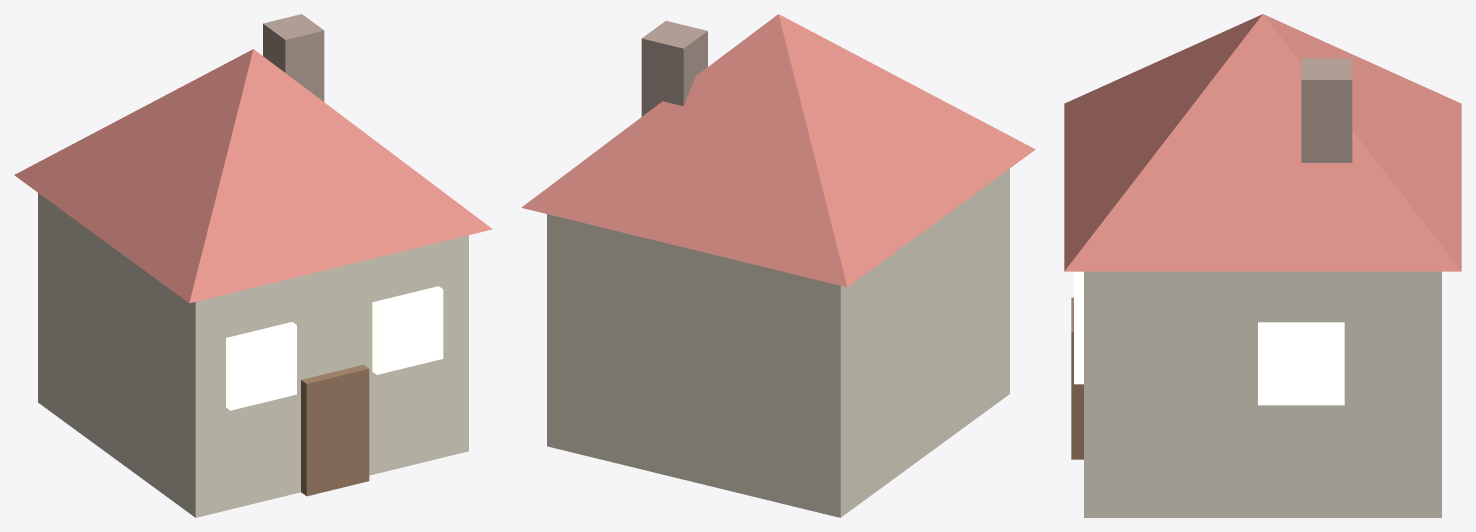
Rendered from house.glb.
The picture shows the model from 3 angles, left to right: view 1: azimuth 30°, elevation 25°; view 2: azimuth 150°, elevation 25°; view 3: azimuth 270°, elevation 25°; orthographic projection. The views are drawn at different scales.
Parts seen in each view (by area): view 1: Walls, Roof, Door, WinR, WinL, Chimney; view 2: Walls, Roof, Chimney; view 3: Walls, Roof, WinS, Chimney, Door, WinR.
Boxes of the visible parts, x1,y1,x2,y2 form: Walls: [38, 193, 468, 517]; Roof: [14, 49, 492, 303]; Door: [301, 364, 369, 496]; WinR: [372, 286, 443, 374]; WinL: [226, 322, 296, 410]; Chimney: [263, 14, 324, 101]; Walls: [547, 168, 1009, 517]; Roof: [521, 14, 1035, 287]; Chimney: [641, 21, 707, 116]; Walls: [1084, 271, 1441, 517]; Roof: [1064, 14, 1461, 271]; WinS: [1258, 322, 1344, 405]; Chimney: [1301, 58, 1352, 162]; Door: [1071, 297, 1083, 459]; WinR: [1074, 271, 1083, 384].
Size of the model in its own units: 3.11 by 3.7 by 3.11.
